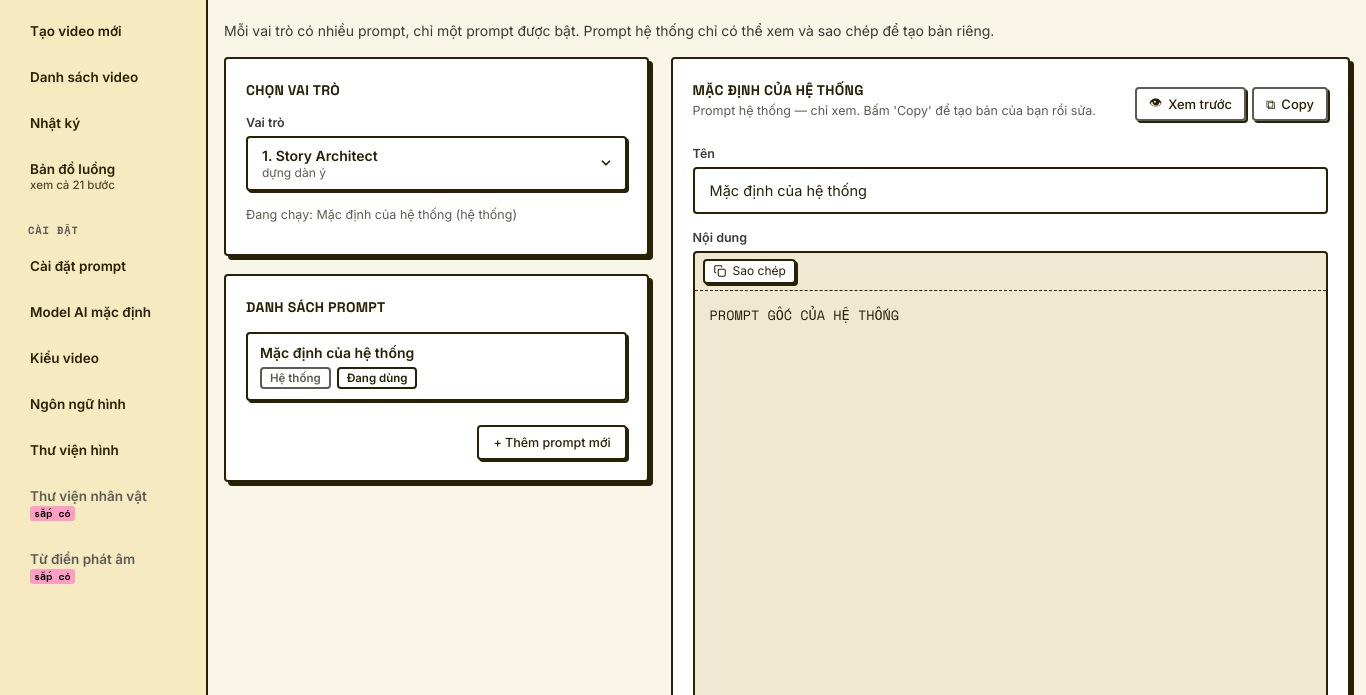
Test: PromptSettingsPage — thư viện prompt › Copy dòng hệ thống tạo dòng mới rồi chọn nó
What coordinates should you click on to do the following:
click the button with test id "prompt-copy-button"
I would click on:
 (1290, 104)
Its box is [1252,87,1328,121].
(page scrolled)
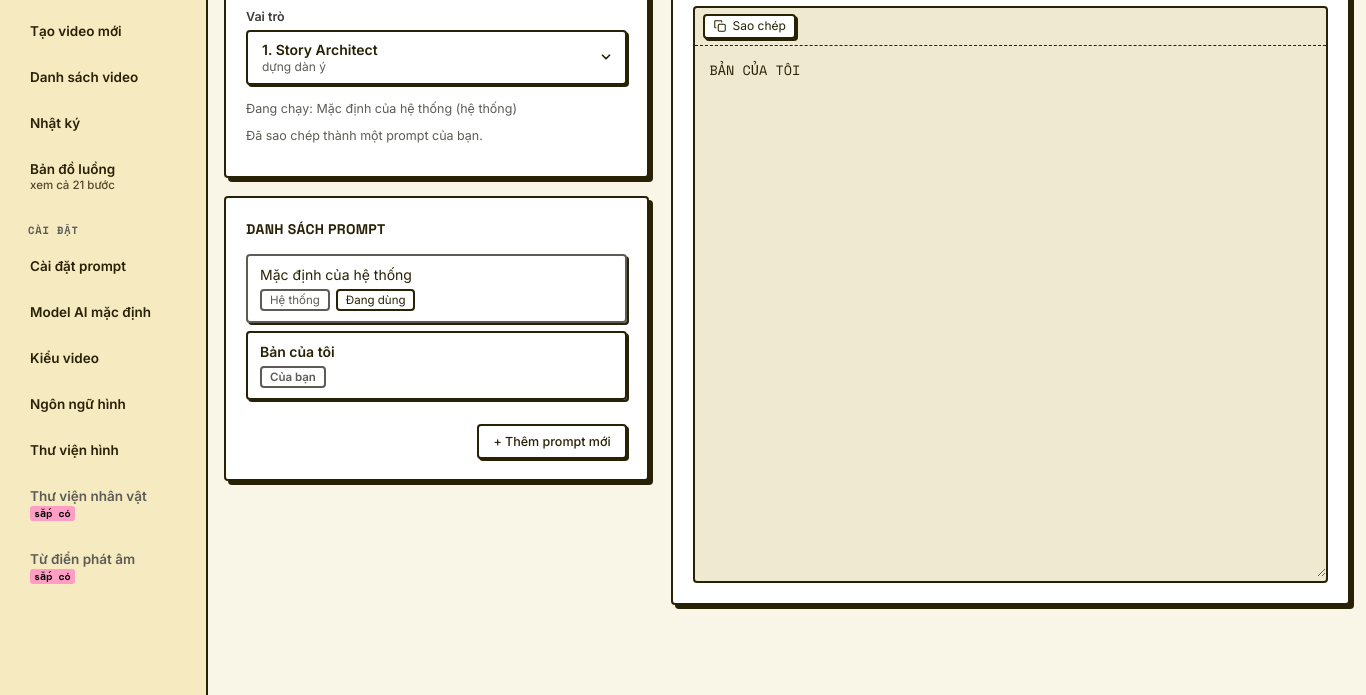
Now the text box with test id "prompt-template-textarea" holds "BẢN CỦA TÔI", box [695,46,1326,576]
